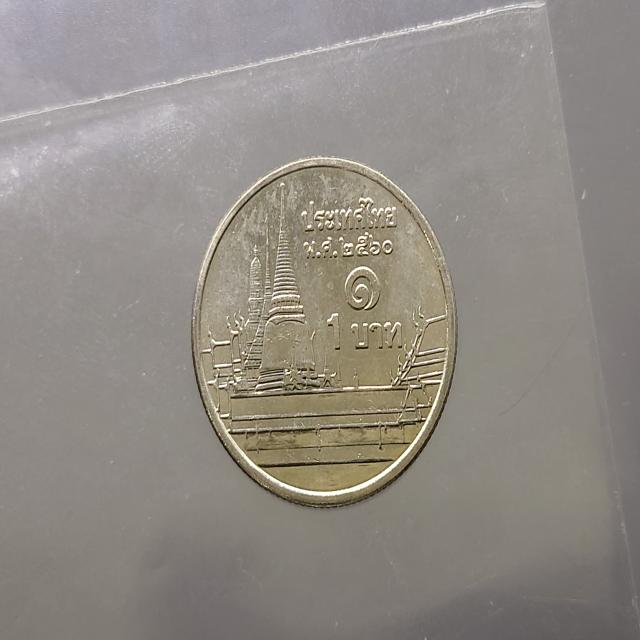1 Bath: (187, 150, 465, 518)
